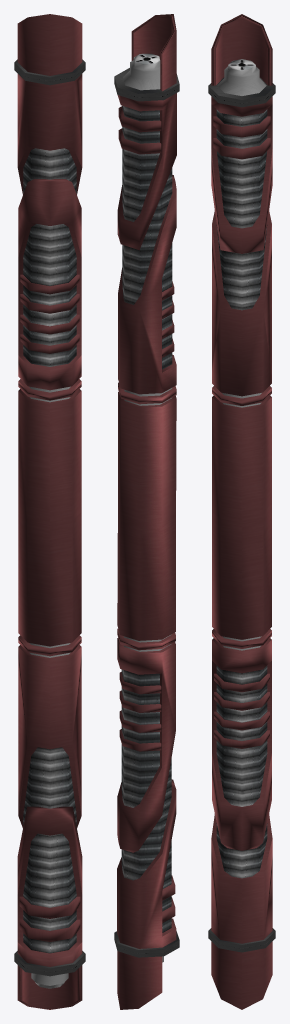
File: saber-vindictive-staff.obj
3 views of the same model, side by side, from view 1: azimuth 90°, elevation 25°; view 2: azimuth 210°, elevation 25°; view 3: azimuth 270°, elevation 25° (orthographic). The views are drawn at different scales.
Parts seen in each view (by area): view 1: models/vindictive_staff; view 2: models/vindictive_staff; view 3: models/vindictive_staff.
Boxes of the visible parts, left/top/right/bottom form: models/vindictive_staff: left=14, top=14, right=85, bottom=1009; models/vindictive_staff: left=114, top=14, right=179, bottom=1009; models/vindictive_staff: left=208, top=14, right=275, bottom=1009.
Bounding box in the file's own units: 1.66 × 26.3 × 1.66.
3 materials, 3 textured.
